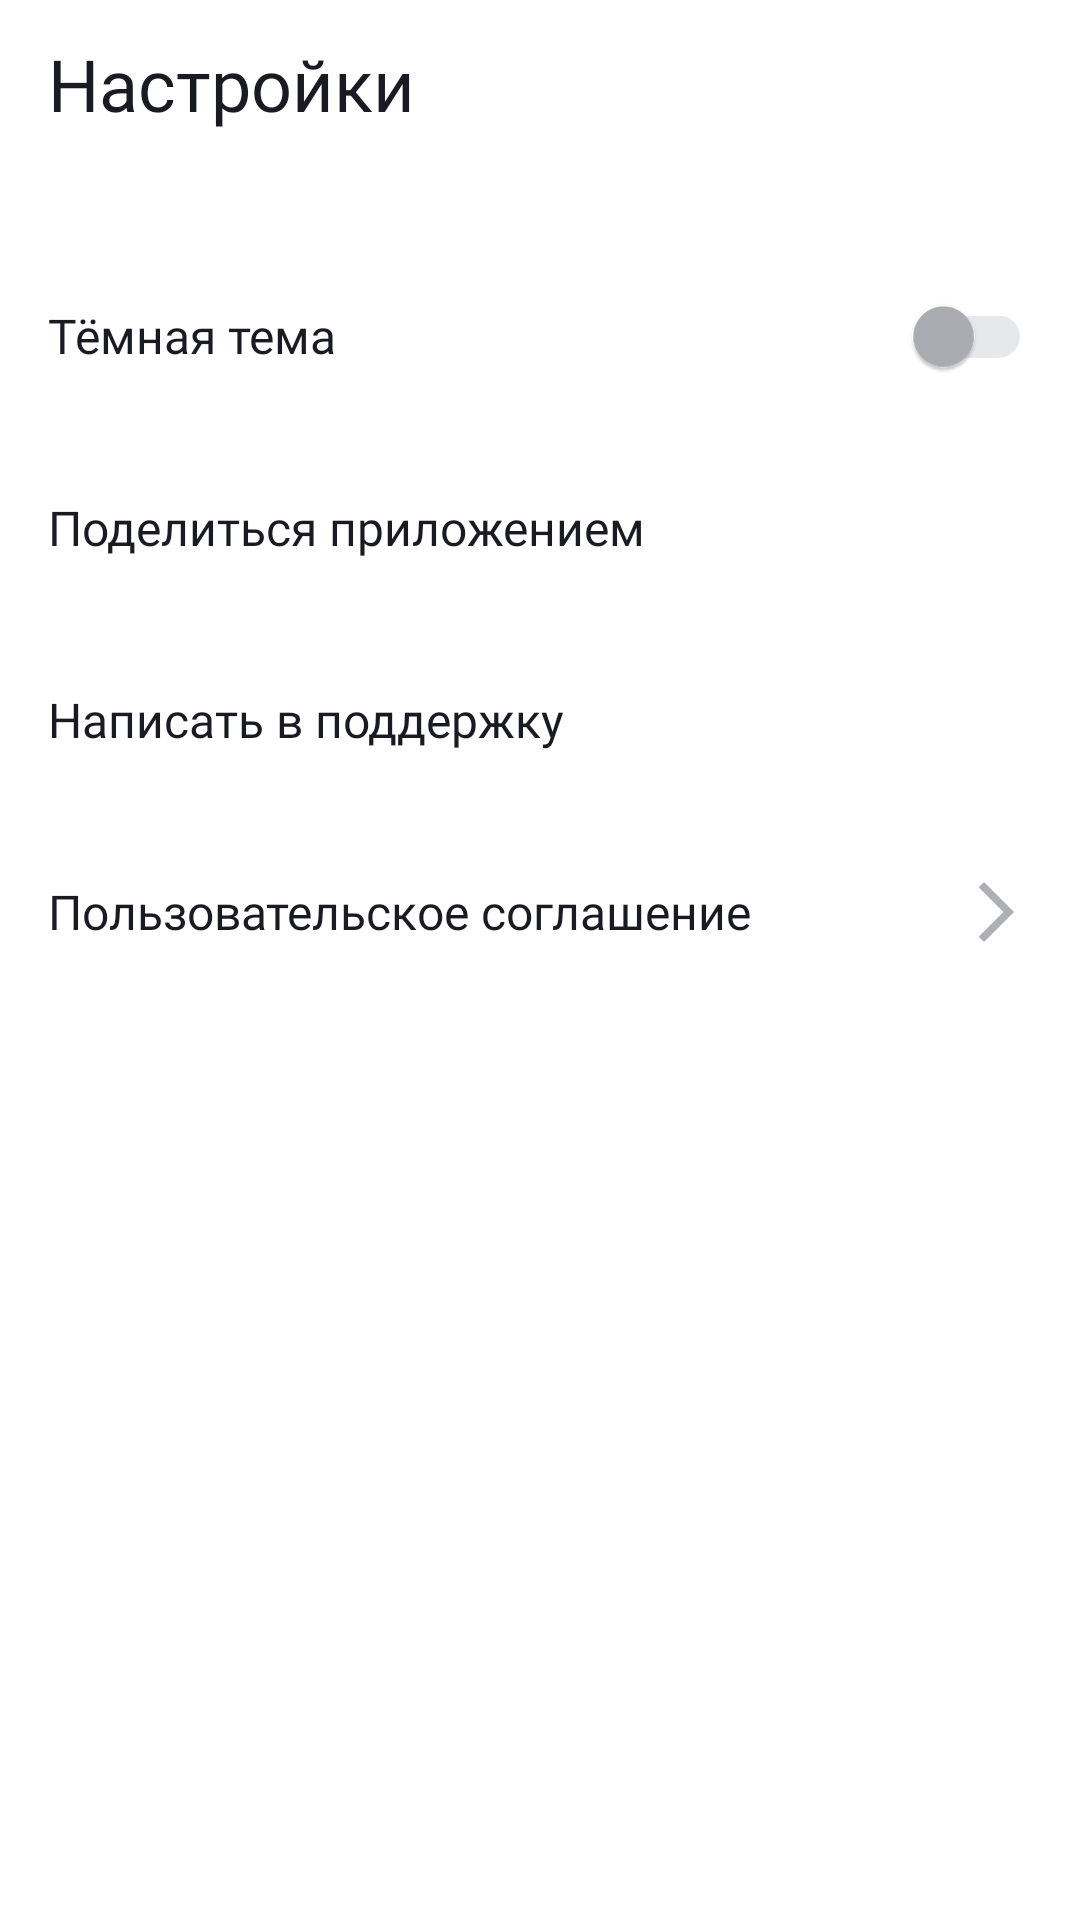

Point at icon controls on the screen. Image size 1080×1920, points as [x,y].
arrow forward: [996,912]
